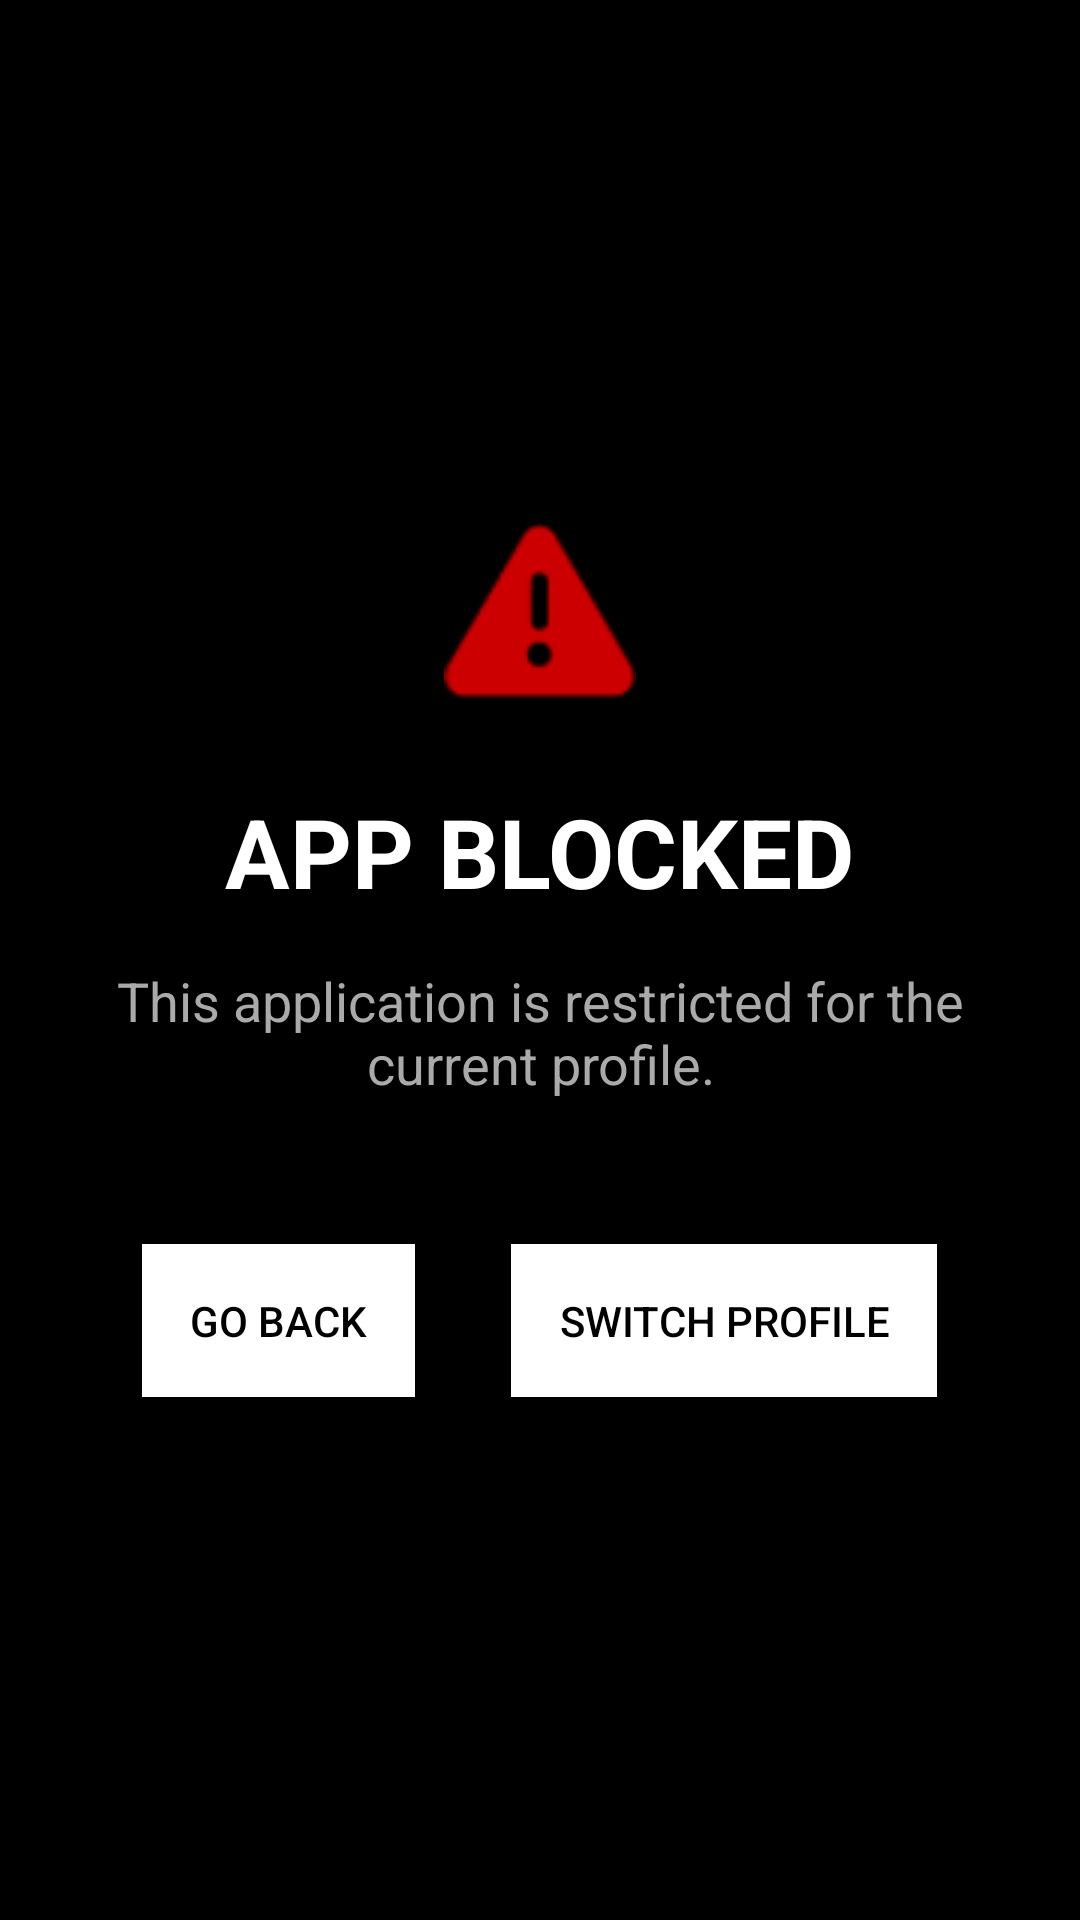

Screen size 1080x1920. Icon name, then its center in pixels as point (x, y):
Warning: point (540, 610)
